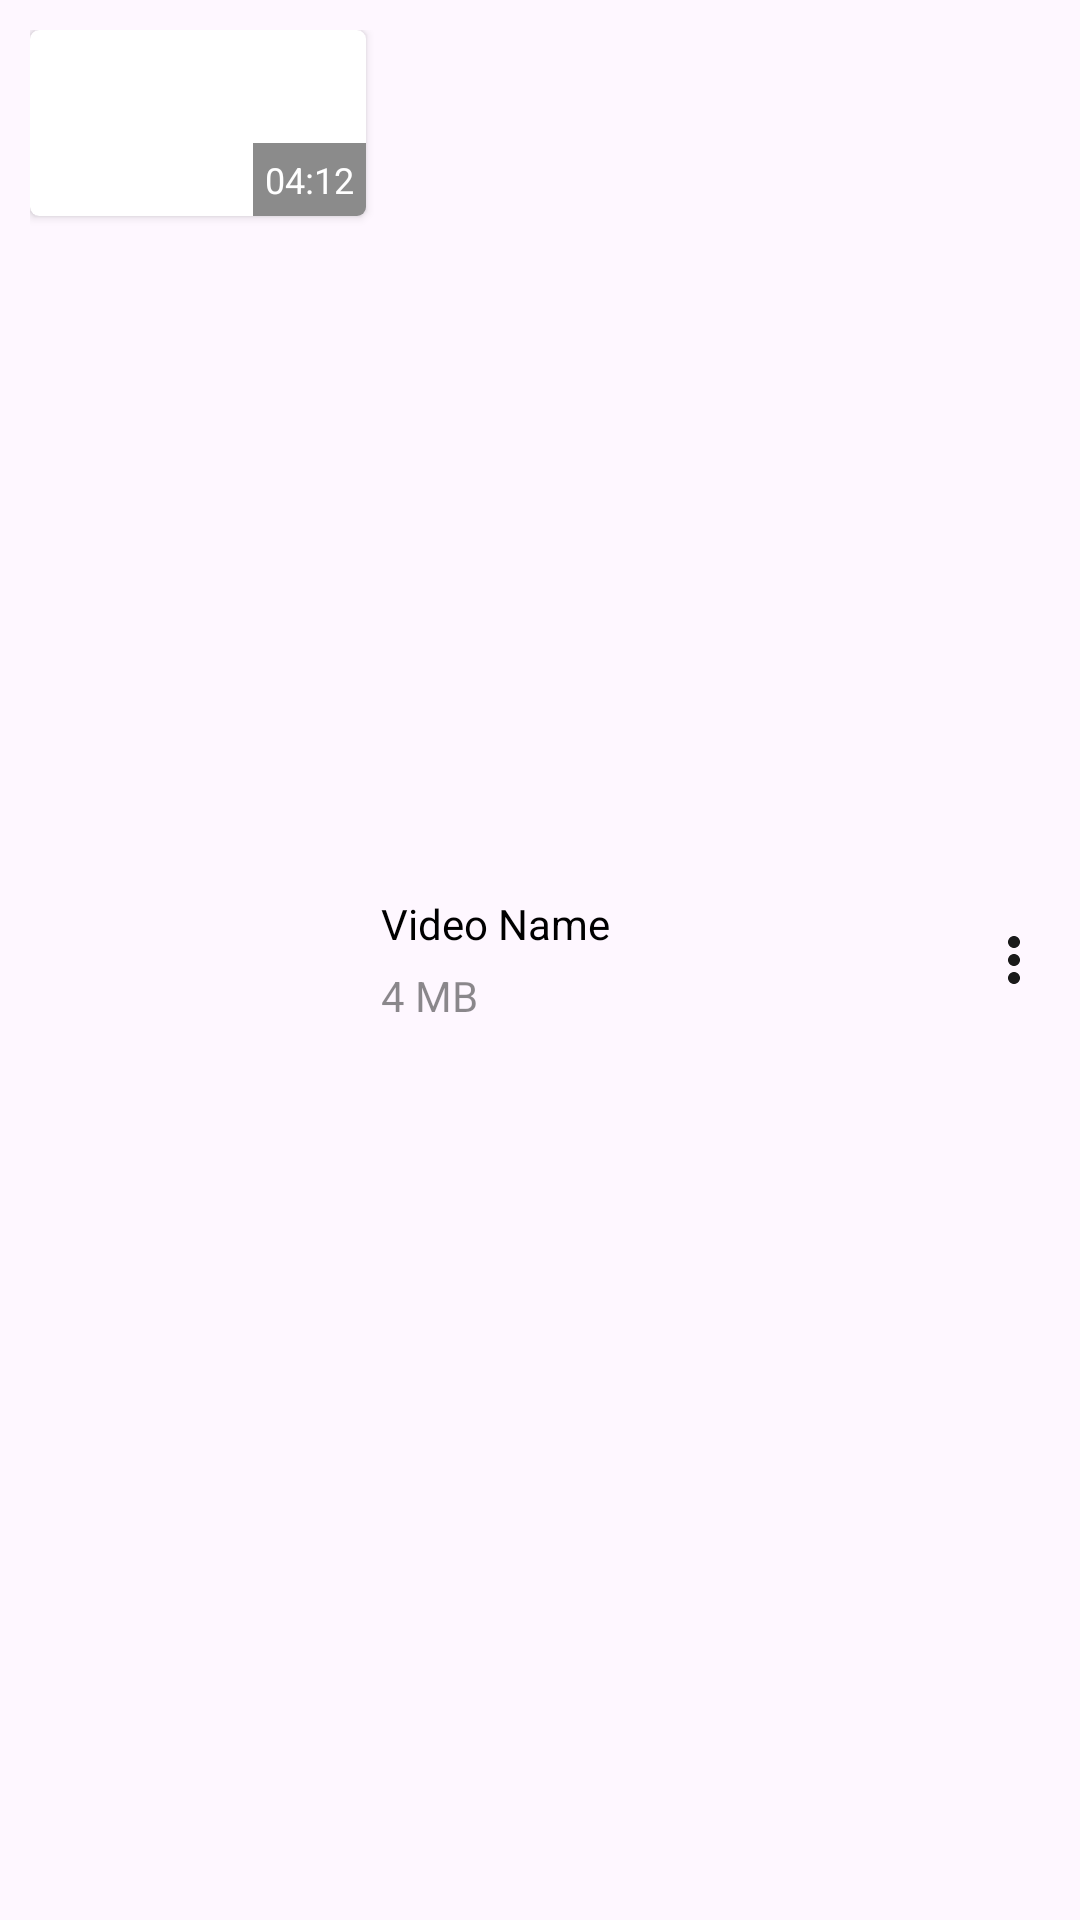

Where icons sit on this 1080 × 1920 app screen, as (x1, y1, x2, y2):
more: (1008, 936, 1020, 984)
